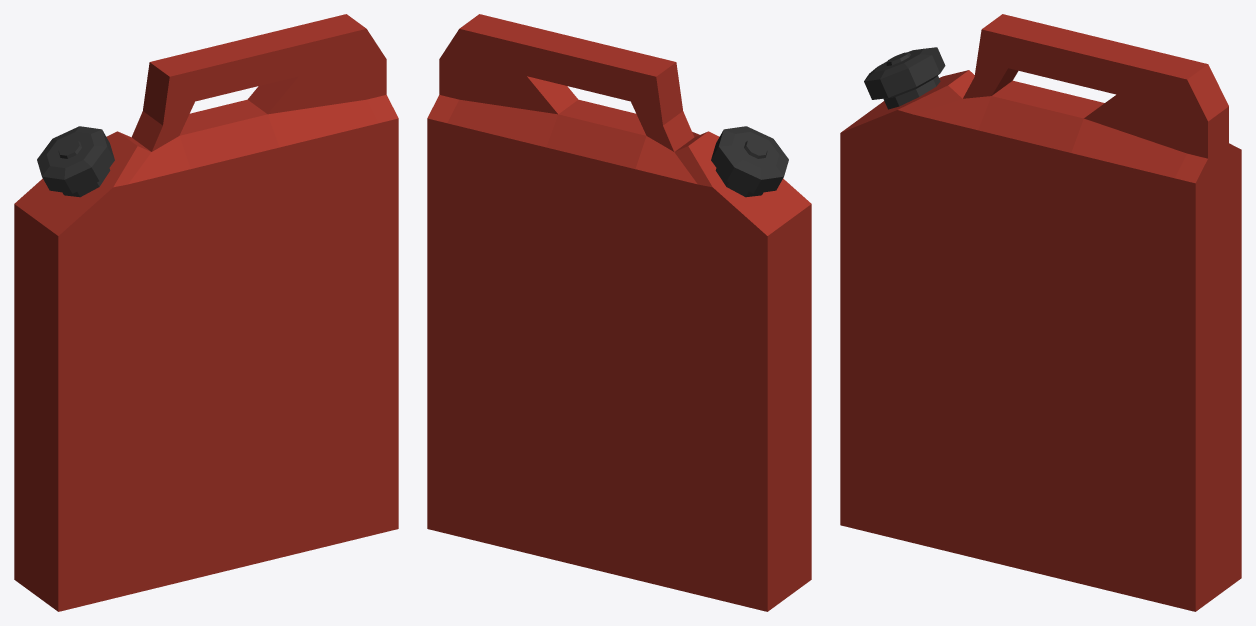
The model's file is gas.glb.
3 renders of one model, left to right at view 1: azimuth 30°, elevation 25°; view 2: azimuth 150°, elevation 25°; view 3: azimuth 330°, elevation 25°, orthographic. The views are drawn at different scales.
Parts seen in each view (by area): view 1: Cube, Cylinder.001, Cylinder; view 2: Cube, Cylinder.001, Cylinder; view 3: Cube, Cylinder.001, Cylinder.
Boxes of the visible parts, x1,y1,x2,y2 form: Cube: (14,14,398,611); Cylinder.001: (37,126,114,193); Cylinder: (58,139,110,197); Cube: (427,14,811,611); Cylinder.001: (711,126,788,193); Cylinder: (715,139,767,197); Cube: (840,14,1241,611); Cylinder.001: (864,47,945,99); Cylinder: (883,52,940,109).
Bounding box in the file's own units: 3.01 × 4.2 × 0.6772.
